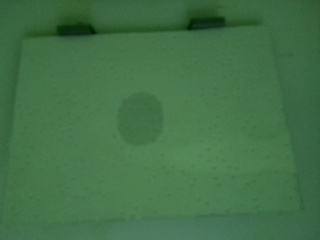Water_detected: (123, 99, 167, 141)
